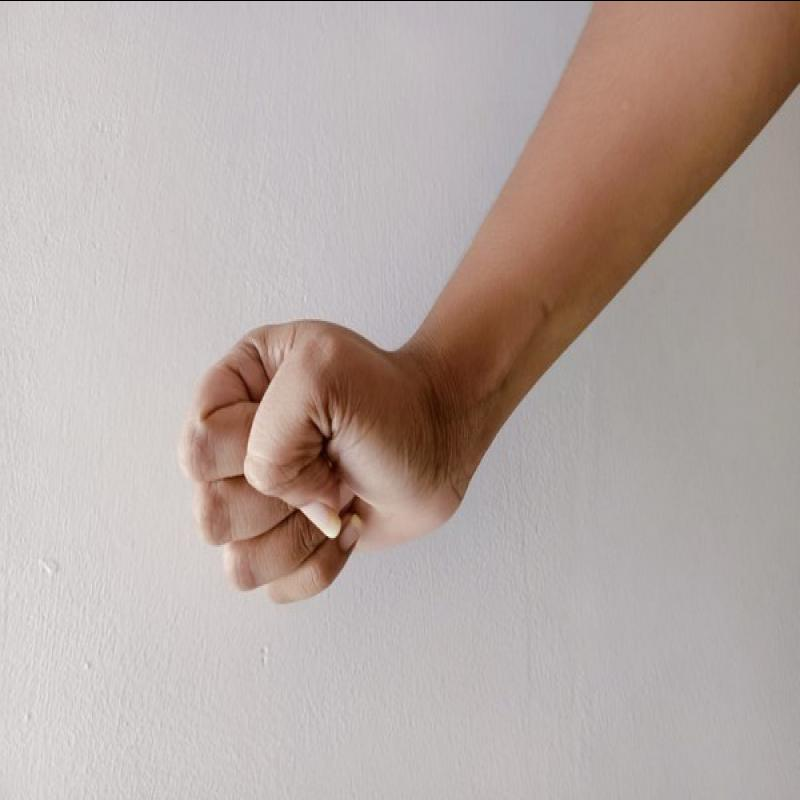Mushti: (162, 307, 467, 623)
